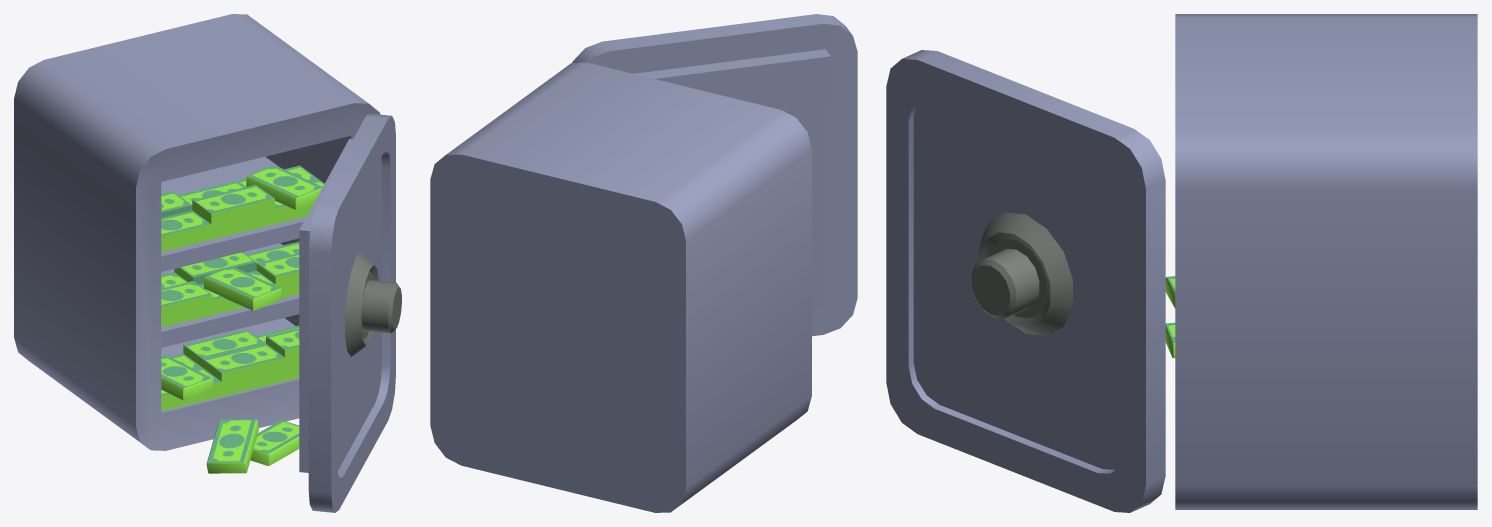
The model's file is Money_Safe_fbx.fbx.
3 views of the same model, side by side, from view 1: azimuth 30°, elevation 25°; view 2: azimuth 150°, elevation 25°; view 3: azimuth 270°, elevation 25° (orthographic). The views are drawn at different scales.
Visible parts, largest first — view 1: Money_Safe_fbx; view 2: Money_Safe_fbx; view 3: Money_Safe_fbx.
Part boxes in pixels (x1=…): Money_Safe_fbx: x1=14, y1=14, x2=401, y2=512; Money_Safe_fbx: x1=430, y1=14, x2=857, y2=512; Money_Safe_fbx: x1=886, y1=14, x2=1477, y2=512.
Size of the model in its own units: 74.41 by 86.48 by 124.
Materials: 1 (1 with a texture image).
